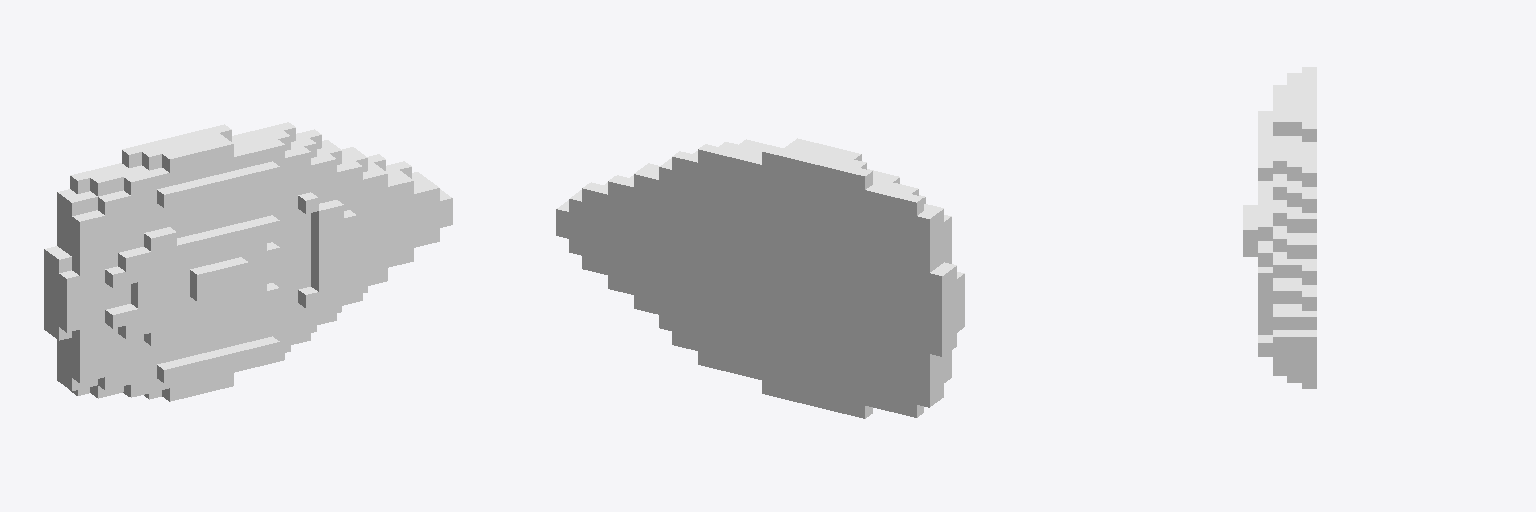
The model's file is Gunboat.obj.
3 renders of one model, left to right at view 1: azimuth 30°, elevation 25°; view 2: azimuth 150°, elevation 25°; view 3: azimuth 270°, elevation 25°, orthographic.
Parts seen in each view (by area): view 1: object 1; view 2: object 1; view 3: object 1.
Boxes of the visible parts, x1=… form: object 1: x1=44, y1=122, x2=452, y2=401; object 1: x1=556, y1=138, x2=964, y2=418; object 1: x1=1243, y1=67, x2=1316, y2=388.
Size of the model in its own units: 30 by 18 by 5.